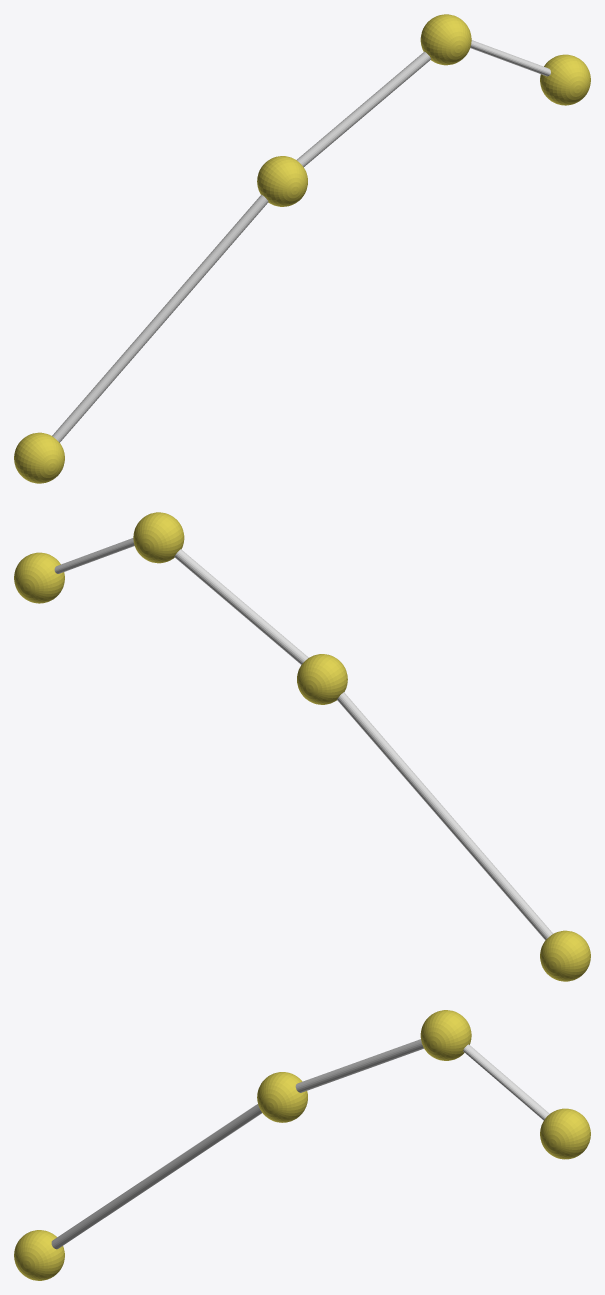
Rendered from aries.glb.
The picture shows the model from 3 angles, top to bottom: view 1: azimuth 30°, elevation 25°; view 2: azimuth 150°, elevation 25°; view 3: azimuth 330°, elevation 25°; orthographic projection.
Parts seen in each view (by area): view 1: Mesh_Mesh_head_geo.001_lambert2SG.001; view 2: Mesh_Mesh_head_geo.001_lambert2SG.001; view 3: Mesh_Mesh_head_geo.001_lambert2SG.001.
Boxes of the visible parts, box(x1,y1,x2,y2) form: Mesh_Mesh_head_geo.001_lambert2SG.001: box(14, 14, 590, 483); Mesh_Mesh_head_geo.001_lambert2SG.001: box(14, 512, 590, 981); Mesh_Mesh_head_geo.001_lambert2SG.001: box(14, 1010, 590, 1280).
Bounding box in the file's own units: 129 × 79 × 10.
